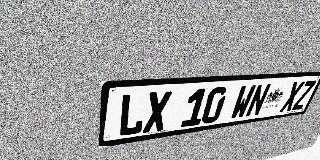0: (200, 87, 229, 124)
1: (181, 88, 210, 127)
L: (117, 92, 147, 137)
N: (244, 83, 272, 118)
W: (229, 85, 257, 120)
X: (142, 91, 172, 133), (279, 81, 305, 112)
Z: (291, 80, 317, 110)
